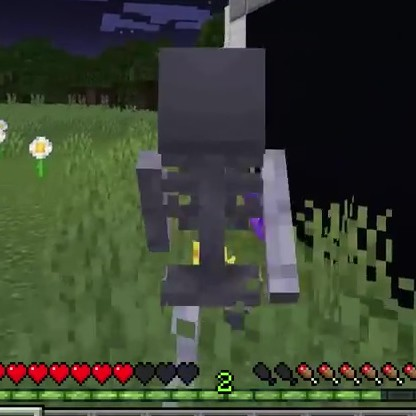skeleton: (136, 44, 302, 350)
